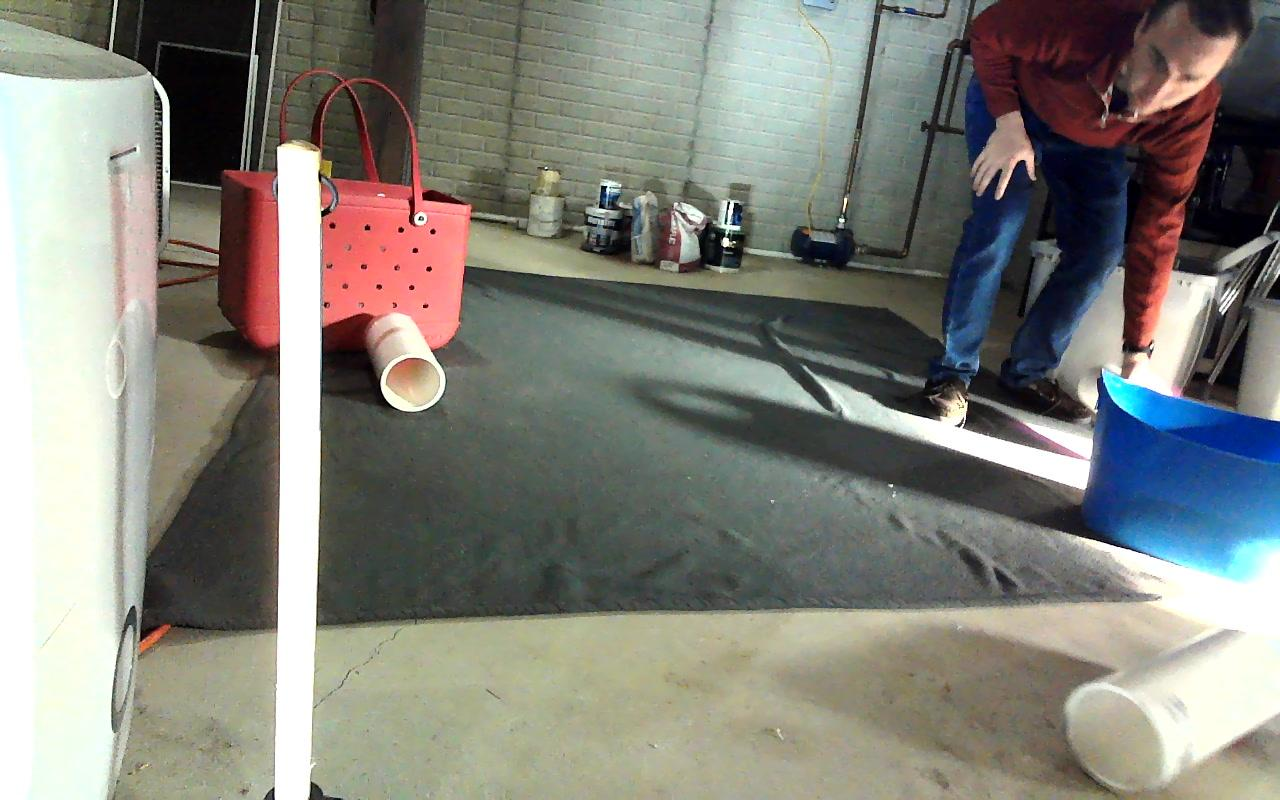coral: (1063, 631, 1277, 792), (366, 312, 444, 411)
